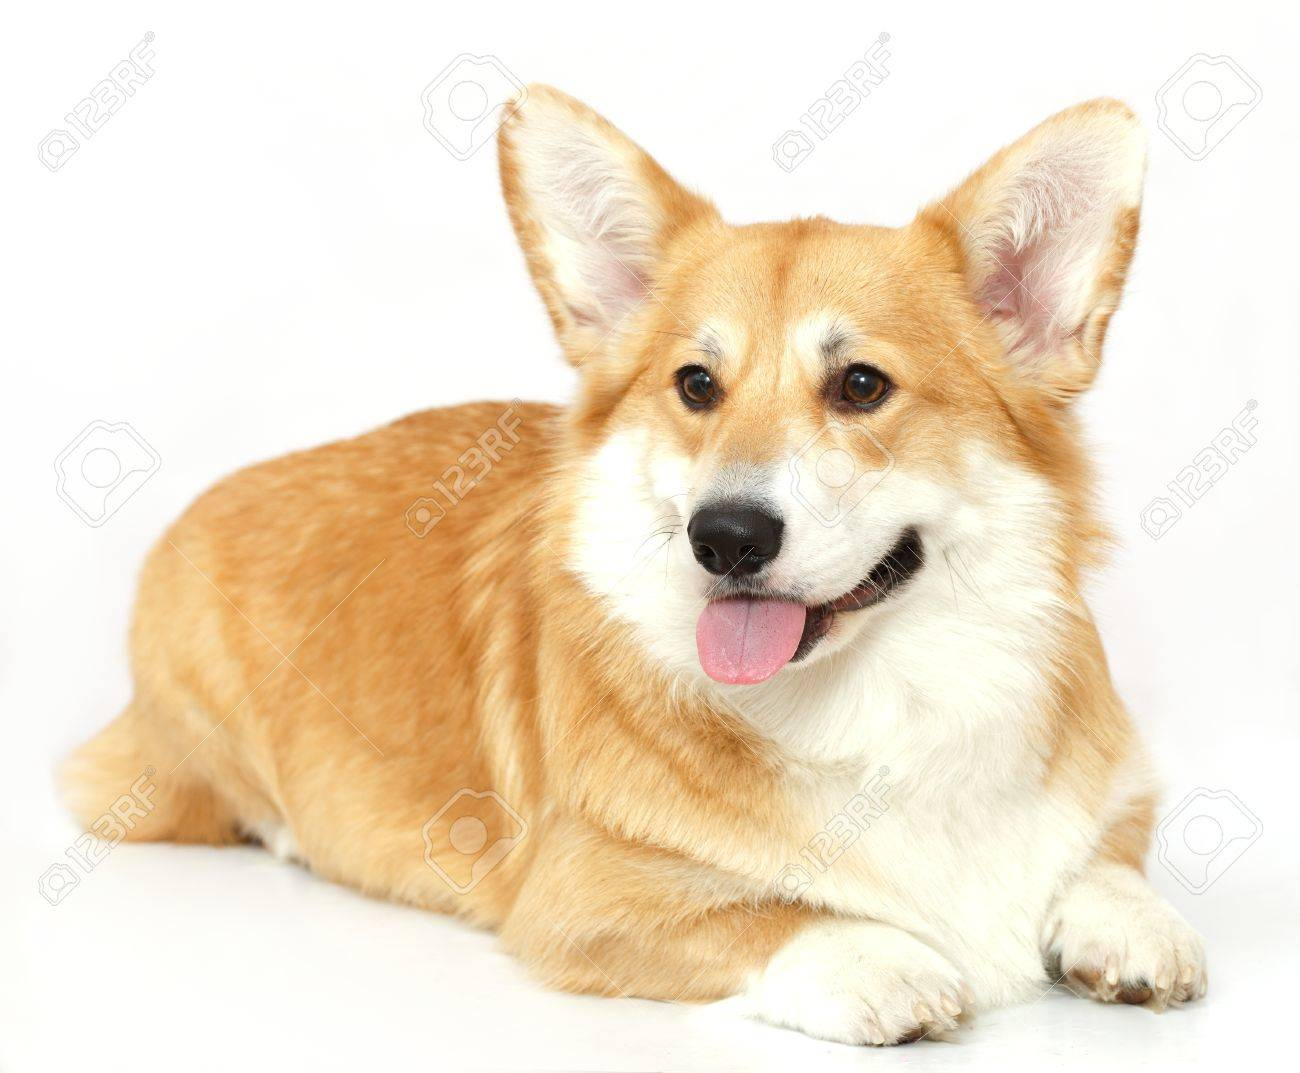corgi: (66, 80, 1221, 1049)
